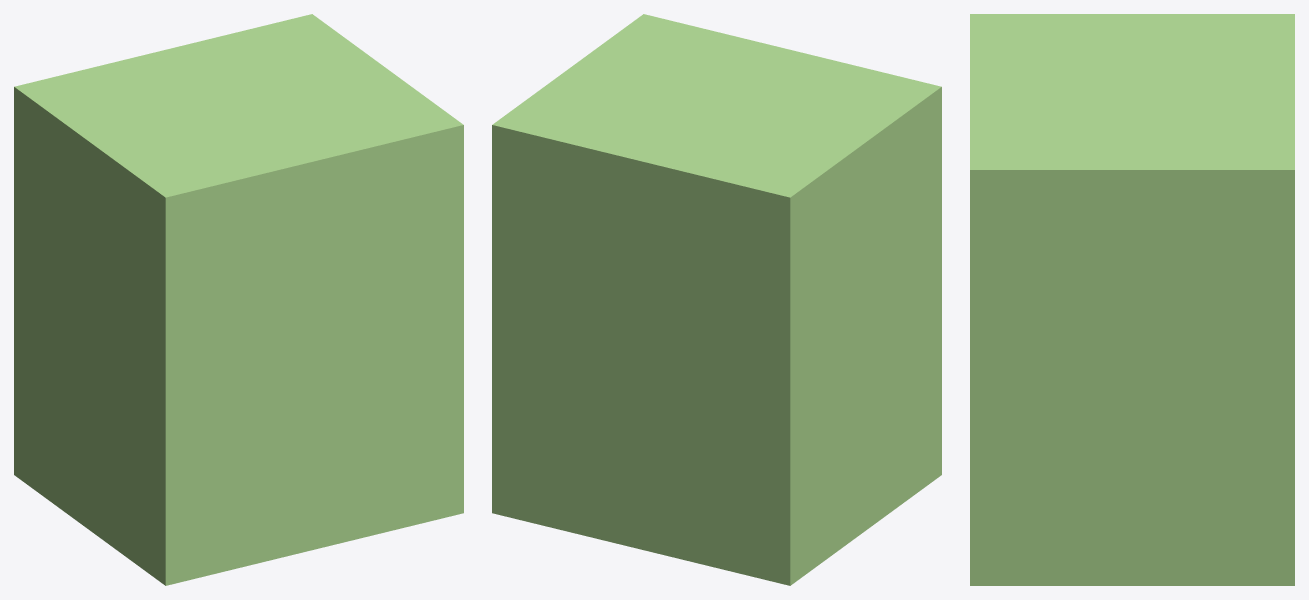
Rendered from canopytree_one_wvines.DAE.
3 views of the same model, side by side, from view 1: azimuth 30°, elevation 25°; view 2: azimuth 150°, elevation 25°; view 3: azimuth 270°, elevation 25° (orthographic). The views are drawn at different scales.
Visible parts, largest first — view 1: bounds; view 2: bounds; view 3: bounds.
Part boxes in pixels (bbox=[...]): bounds: bbox=[14, 14, 463, 585]; bounds: bbox=[492, 14, 941, 585]; bounds: bbox=[970, 14, 1294, 585].
Size of the model in its own units: 20.74 by 18.26 by 25.82.
